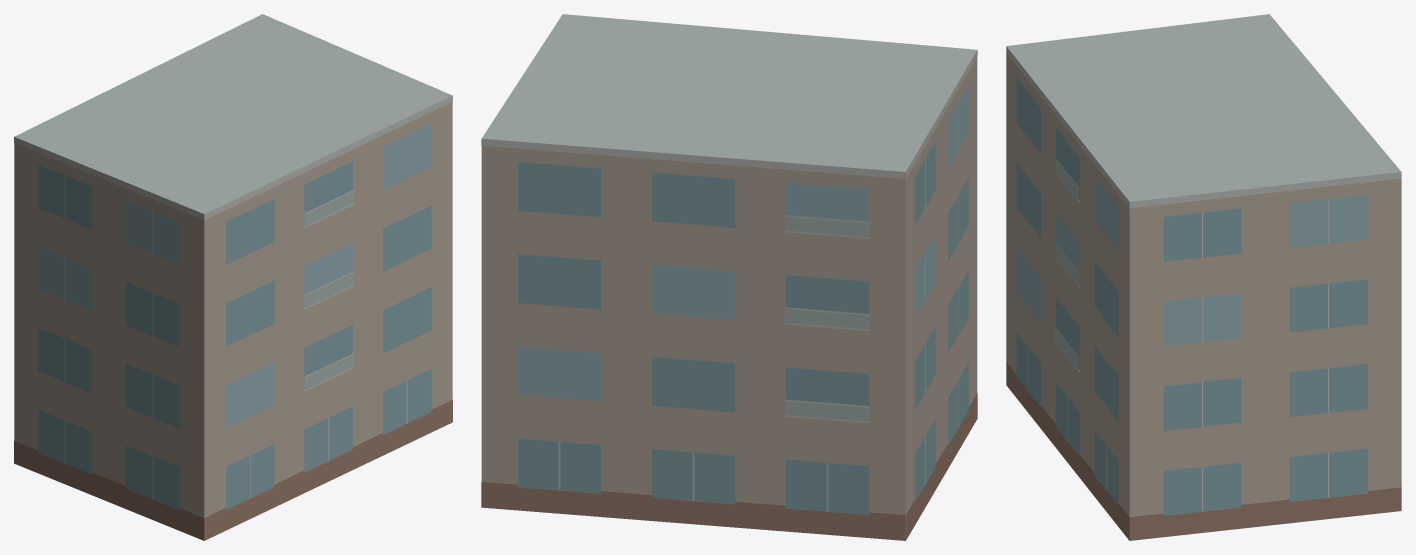
The model's file is survey-upis-32626162.glb.
The picture shows the model from 3 angles, left to right: view 1: azimuth 30°, elevation 25°; view 2: azimuth 150°, elevation 25°; view 3: azimuth 270°, elevation 25°; orthographic projection. The views are drawn at different scales.
Parts seen in each view (by area): view 1: survey-upis-32626162.tmp; view 2: survey-upis-32626162.tmp; view 3: survey-upis-32626162.tmp.
Part boxes in pixels (x1=…): survey-upis-32626162.tmp: x1=14, y1=14, x2=452, y2=540; survey-upis-32626162.tmp: x1=481, y1=14, x2=977, y2=540; survey-upis-32626162.tmp: x1=1006, y1=14, x2=1401, y2=540.
Bounding box in the file's own units: 15.23 × 12.8 × 13.54.
